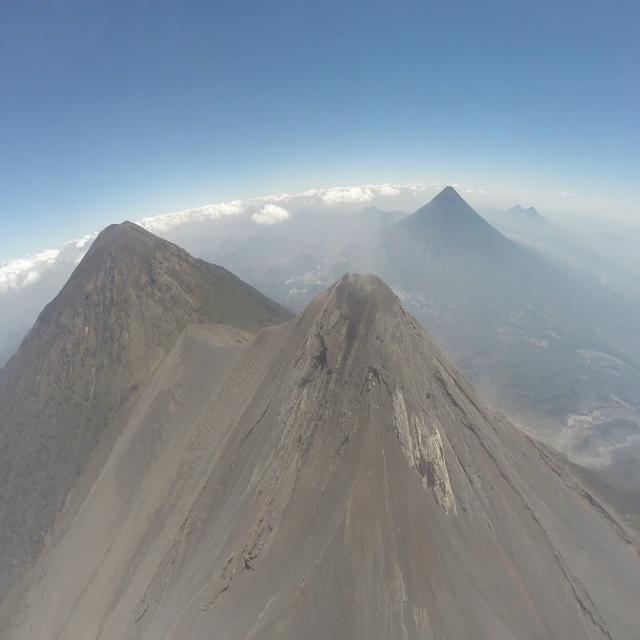Summit: (243, 258, 557, 526)
